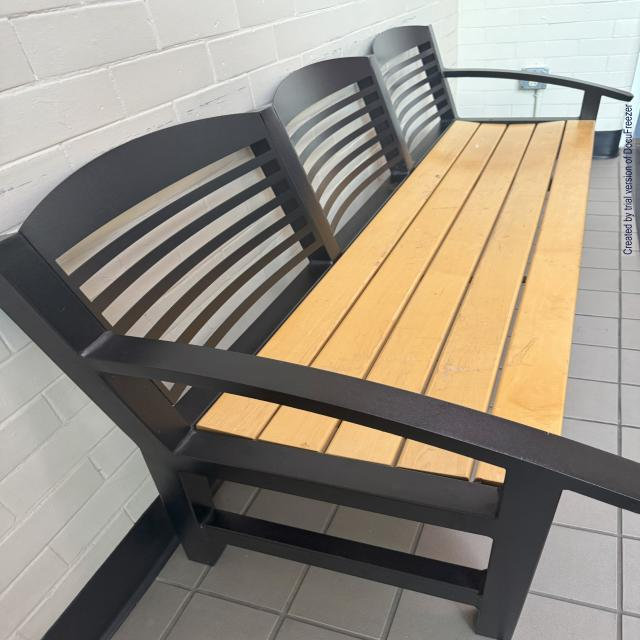chair: (0, 18, 635, 640)
